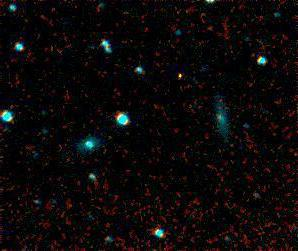star: (163, 61, 193, 91)
